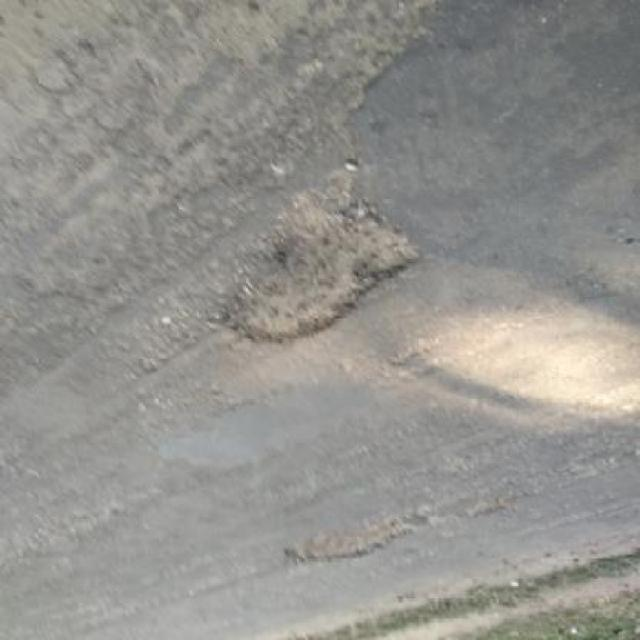pothole: (218, 182, 431, 352), (282, 518, 420, 568)
